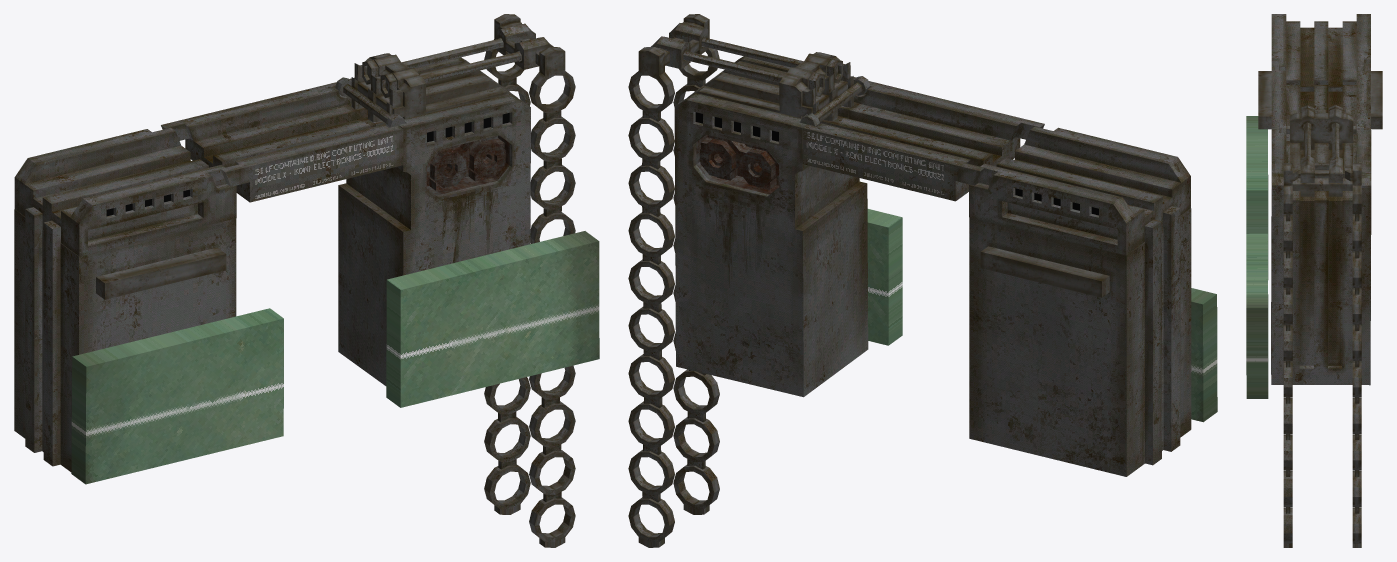
Rendered from table mp_shell sequence machine1.glb.
3 renders of one model, left to right at view 1: azimuth 30°, elevation 25°; view 2: azimuth 150°, elevation 25°; view 3: azimuth 270°, elevation 25°, orthographic. The views are drawn at different scales.
Visible parts, largest first — view 1: shell sequence machine tabletop inner padding, section one parent, section two parent, section two upper mover plate, section bridge parent, carrier main parent, horizontal plate2, sequence segment0, carrier poles, sequence segment9, sequence segment8, sequence segment7 (+7 smaller); view 2: section two parent, section one parent, section two upper mover plate, section bridge parent, shell sequence machine tabletop inner padding, carrier main parent, horizontal plate1, sequence segment0, carrier poles, sequence segment9, sequence segment8, sequence segment7 (+10 smaller); view 3: section one parent, shell sequence machine tabletop inner padding, section two upper mover plate, carrier main parent, section bridge parent, sequence segment0, carrier pole grabber, horizontal plate2, sequence segment9, horizontal plate1, sequence segment6, sequence segment3 (+7 smaller).
Part boxes in pixels (x1=…): shell sequence machine tabletop inner padding: x1=71, y1=231, x2=599, y2=484; section one parent: x1=335, y1=57, x2=530, y2=385; section two parent: x1=14, y1=207, x2=236, y2=471; section two upper mover plate: x1=14, y1=127, x2=236, y2=256; section bridge parent: x1=161, y1=82, x2=403, y2=202; carrier main parent: x1=354, y1=53, x2=517, y2=122; horizontal plate2: x1=96, y1=247, x2=226, y2=299; sequence segment0: x1=484, y1=14, x2=575, y2=113; carrier poles: x1=362, y1=38, x2=521, y2=97; sequence segment9: x1=484, y1=464, x2=575, y2=547; sequence segment8: x1=484, y1=417, x2=575, y2=494; sequence segment7: x1=484, y1=377, x2=575, y2=447; section two parent: x1=969, y1=206, x2=1191, y2=476; section one parent: x1=674, y1=56, x2=870, y2=397; section two upper mover plate: x1=969, y1=126, x2=1190, y2=255; section bridge parent: x1=802, y1=81, x2=1044, y2=201; shell sequence machine tabletop inner padding: x1=867, y1=209, x2=1217, y2=422; carrier main parent: x1=687, y1=52, x2=850, y2=120; horizontal plate1: x1=980, y1=246, x2=1109, y2=297; sequence segment0: x1=628, y1=14, x2=719, y2=113; carrier poles: x1=683, y1=37, x2=842, y2=96; sequence segment9: x1=628, y1=464, x2=719, y2=547; sequence segment8: x1=628, y1=417, x2=719, y2=494; sequence segment7: x1=628, y1=369, x2=719, y2=447; section one parent: x1=1271, y1=123, x2=1371, y2=385; shell sequence machine tabletop inner padding: x1=1246, y1=116, x2=1268, y2=398; section two upper mover plate: x1=1271, y1=14, x2=1370, y2=91; carrier main parent: x1=1290, y1=108, x2=1353, y2=196; section bridge parent: x1=1271, y1=63, x2=1370, y2=142; sequence segment0: x1=1283, y1=163, x2=1361, y2=213; carrier pole grabber: x1=1300, y1=155, x2=1342, y2=183; horizontal plate2: x1=1258, y1=71, x2=1271, y2=129; sequence segment9: x1=1283, y1=507, x2=1361, y2=547; horizontal plate1: x1=1371, y1=71, x2=1382, y2=129; sequence segment6: x1=1283, y1=398, x2=1361, y2=434; sequence segment3: x1=1283, y1=288, x2=1361, y2=324.
Size of the model in its own units: 4.97 by 4.61 by 1.48.
Materials: 5 (4 with a texture image).
